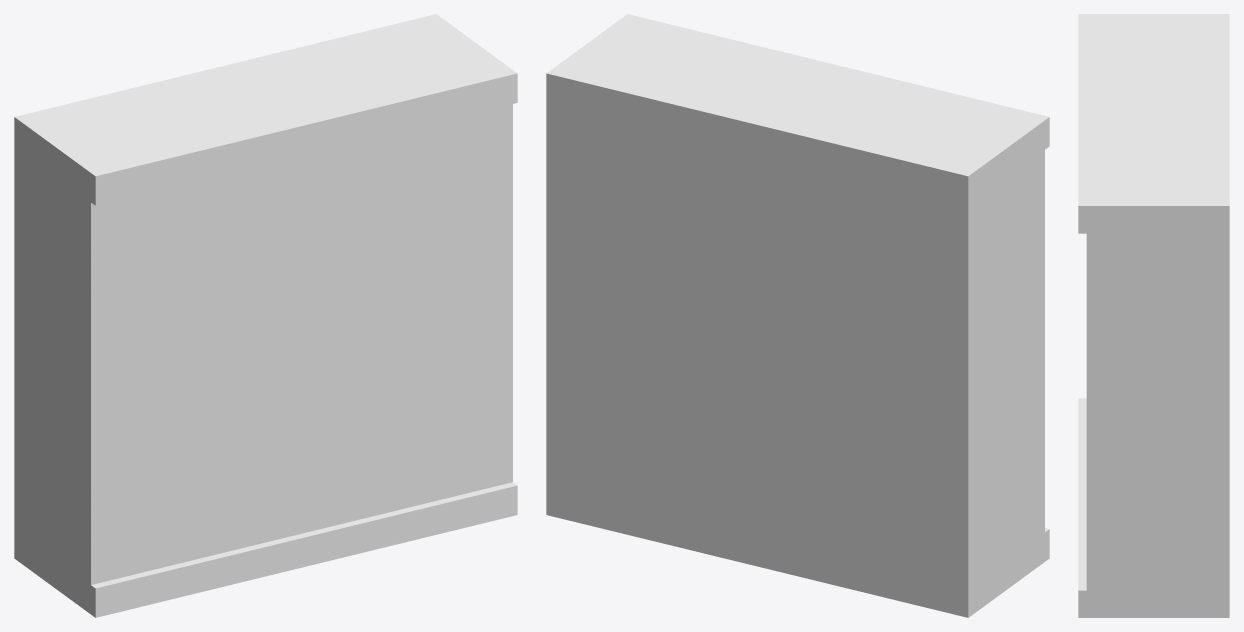
File: Wall_Base.glb
3 renders of one model, left to right at view 1: azimuth 30°, elevation 25°; view 2: azimuth 150°, elevation 25°; view 3: azimuth 270°, elevation 25°, orthographic. The views are drawn at different scales.
Visible parts, largest first — view 1: Wall_Base; view 2: Wall_Base; view 3: Wall_Base.
Part boxes in pixels (left/top/right/bottom): Wall_Base: left=14, top=14, right=517, bottom=617; Wall_Base: left=546, top=14, right=1049, bottom=617; Wall_Base: left=1078, top=14, right=1229, bottom=617.
Size of the model in its own units: 3 by 3 by 1.
Materials: 1 (1 with a texture image).
